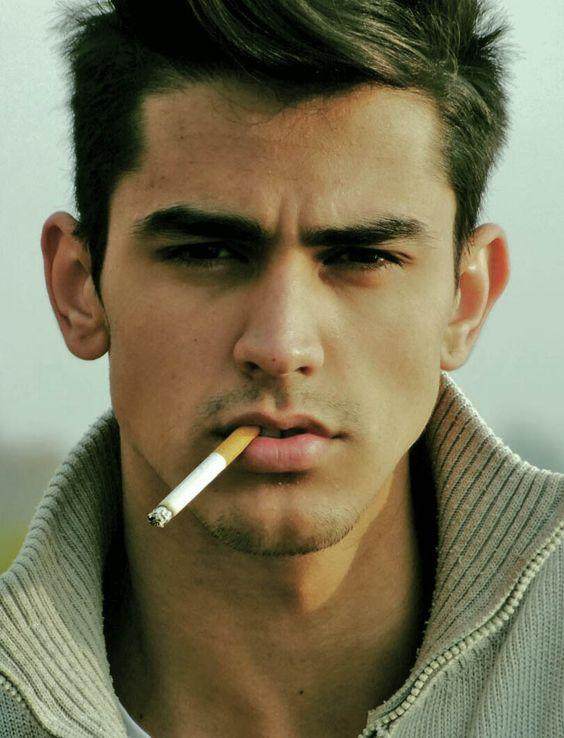cigarette: (147, 424, 264, 527)
